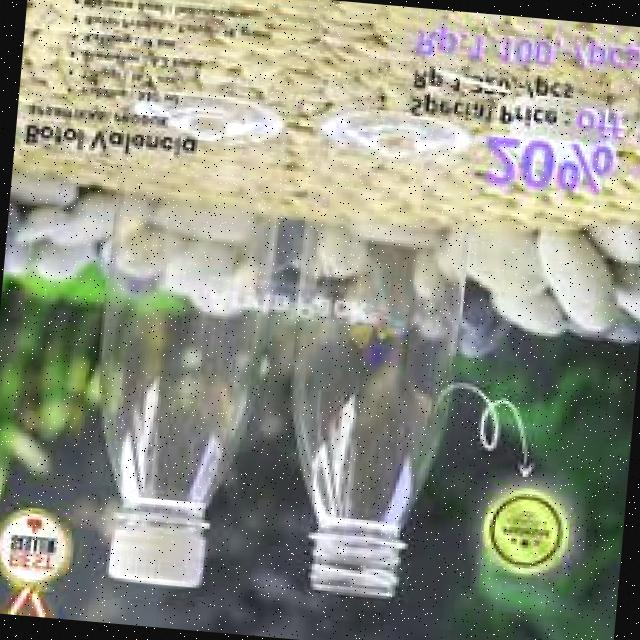bottle: (78, 70, 308, 602), (266, 98, 477, 602)
cap: (94, 498, 218, 592)
